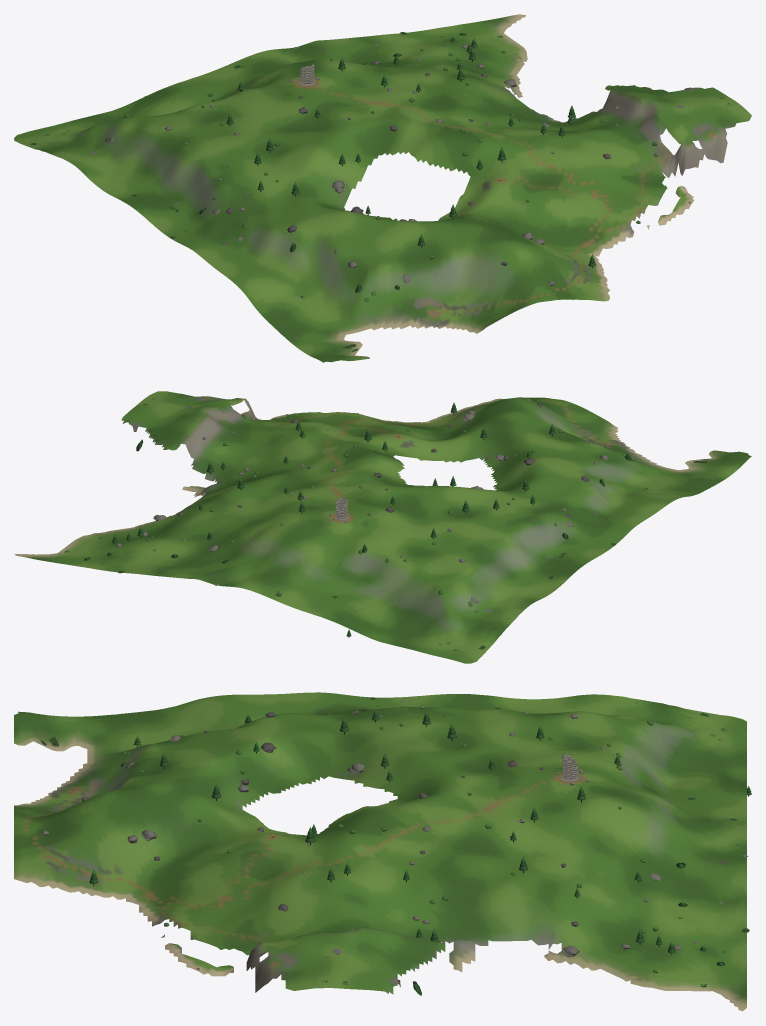
Rendered from arch_isl_gullhaven.glb.
The picture shows the model from 3 angles, top to bottom: view 1: azimuth 30°, elevation 25°; view 2: azimuth 150°, elevation 25°; view 3: azimuth 270°, elevation 25°; orthographic projection. The views are drawn at different scales.
Parts seen in each view (by area): view 1: arch_isl_gullhaven; view 2: arch_isl_gullhaven; view 3: arch_isl_gullhaven.
Boxes of the visible parts, x1,y1,x2,y2 form: arch_isl_gullhaven: [14, 14, 751, 362]; arch_isl_gullhaven: [14, 391, 751, 663]; arch_isl_gullhaven: [14, 692, 751, 1011].
Size of the model in its own units: 340 by 45.85 by 342.
